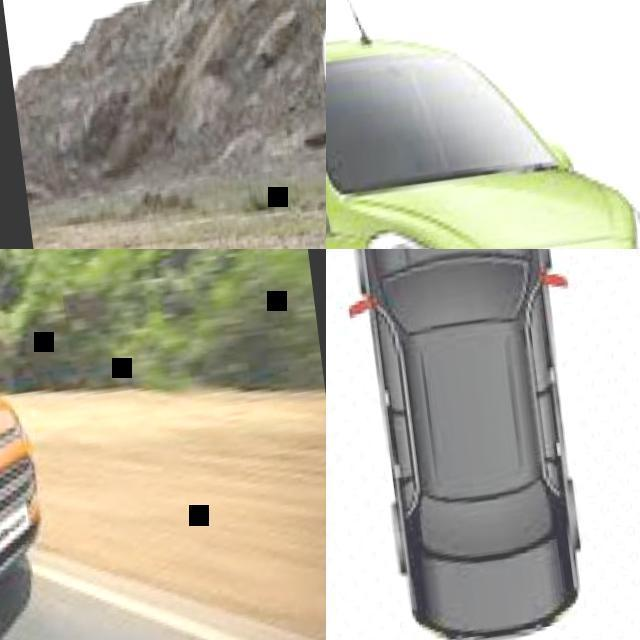car: (351, 248, 593, 640), (330, 0, 640, 238), (2, 374, 58, 588)
